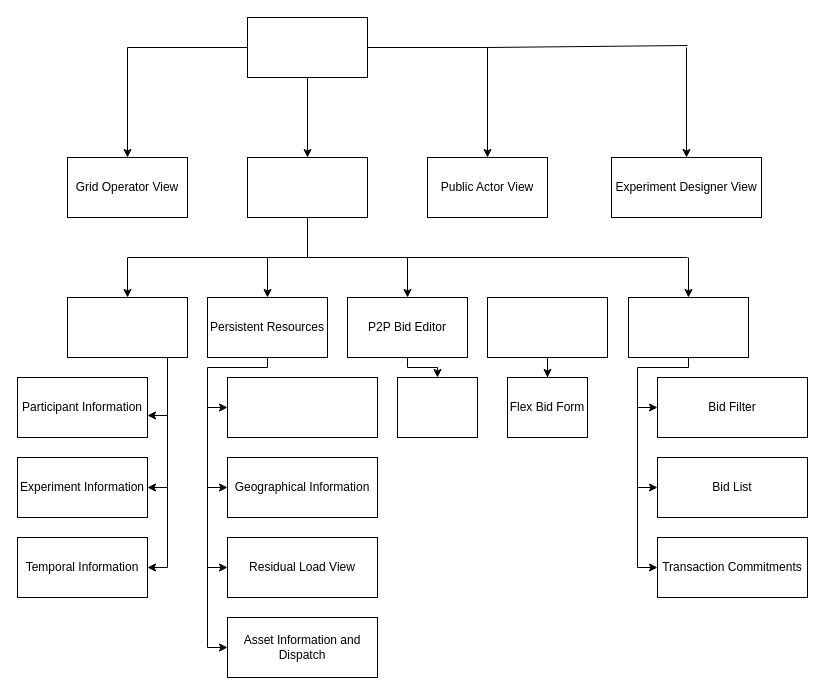
Some shapes in this 825 by 695 pixel diagram are drawn without their labels. The shapes that lost their labels are listed below. From the top down, each one's centre as x and y in pixels, then its label:
At point (307, 47): "LabChain Playground".
At point (307, 187): "Prosumer View".
At point (127, 327): "Core Information".
At point (547, 327): "Flex Bid Editor".
At point (688, 327): "Market View".
At point (302, 407): "Financial Overview".
At point (437, 407): "P2P Bid Form".
